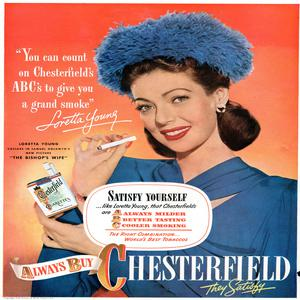cigarette: (97, 132, 142, 154)
